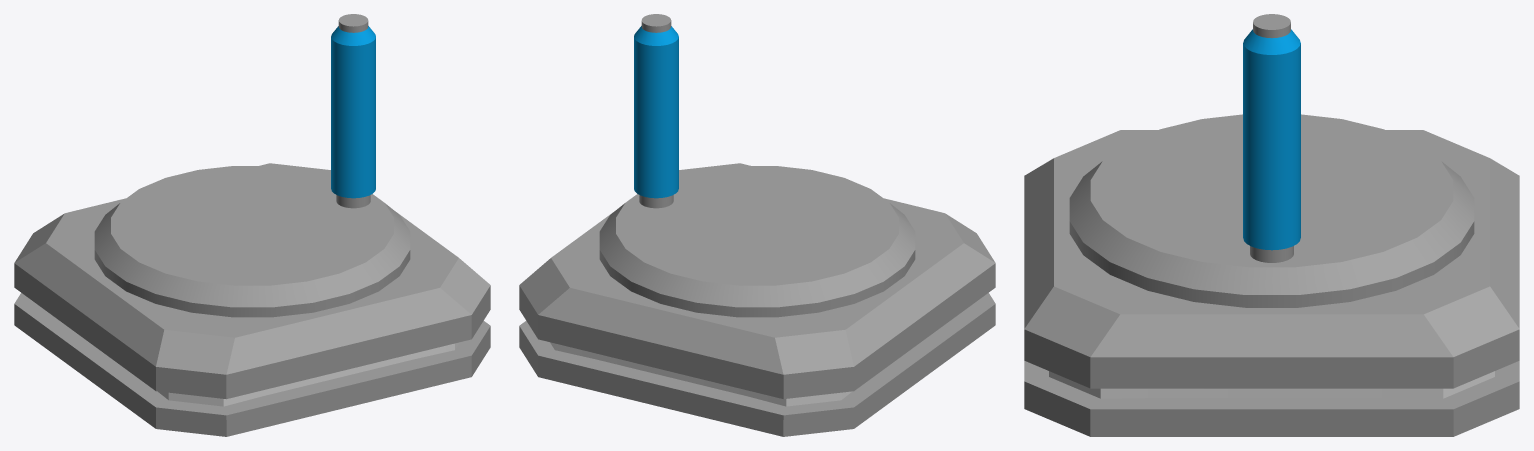
File: Wheel.fbx
3 renders of one model, left to right at view 1: azimuth 30°, elevation 25°; view 2: azimuth 150°, elevation 25°; view 3: azimuth 270°, elevation 25°, orthographic. The views are drawn at different scales.
Visible parts, largest first — view 1: Wheel, WheelGrip; view 2: Wheel, WheelGrip; view 3: Wheel, WheelGrip.
Boxes of the visible parts, x1,y1,x2,y2 form: Wheel: (14,163,490,436); WheelGrip: (94,14,410,317); Wheel: (519,163,995,436); WheelGrip: (599,14,915,317); Wheel: (1024,130,1519,436); WheelGrip: (1069,14,1474,307).
Bounding box in the file's own units: 26.73 × 22.23 × 26.73.
